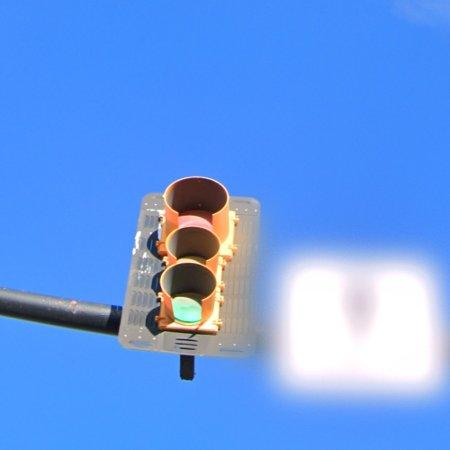traffic lights: (119, 194, 260, 357)
